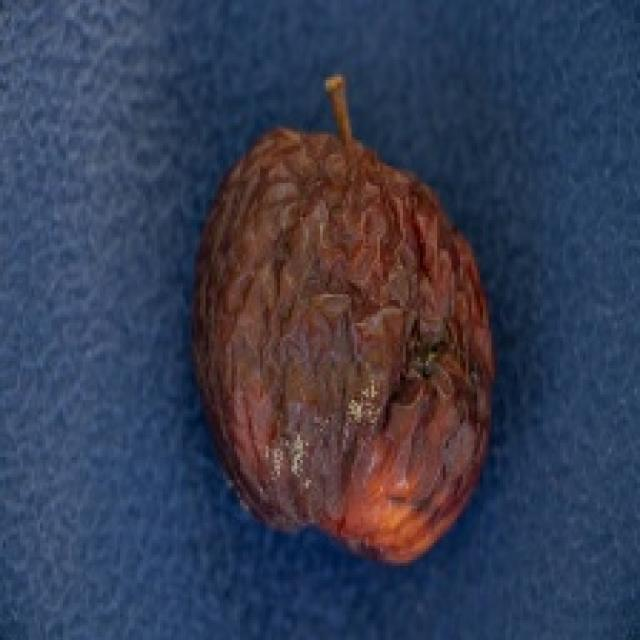rotten_apple: (208, 132, 492, 558)
